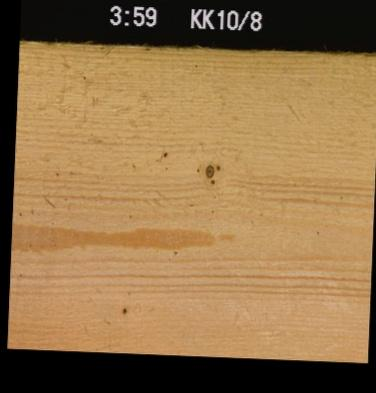dry_knot: (202, 162, 214, 178)
small_knot: (119, 305, 127, 315), (206, 178, 217, 185), (160, 149, 167, 159)
